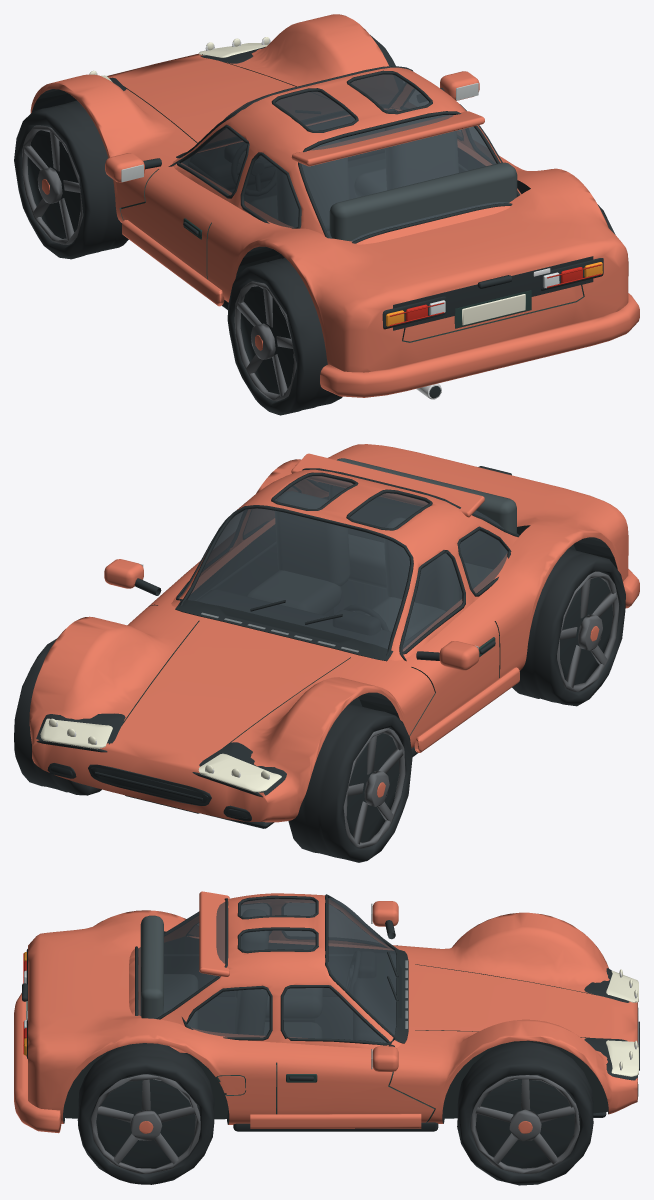
Rendered from arashi_lod2.fbx.
3 renders of one model, top to bottom at view 1: azimuth 30°, elevation 25°; view 2: azimuth 150°, elevation 25°; view 3: azimuth 270°, elevation 25°, orthographic. The views are drawn at different scales.
Parts seen in each view (by area): view 1: Body, Wheel_FL_Mesh, Wheel_RL_Mesh; view 2: Body, Wheel_FL_Mesh, Wheel_RL_Mesh, Wheel_FR_Mesh; view 3: Body, Wheel_FR_Mesh, Wheel_RR_Mesh.
Part boxes in pixels (<box>): Body: <box>30,14,639,399</box>; Wheel_FL_Mesh: <box>14,100,128,259</box>; Wheel_RL_Mesh: <box>227,258,342,415</box>; Body: <box>29,444,639,828</box>; Wheel_FL_Mesh: <box>288,704,412,862</box>; Wheel_RL_Mesh: <box>512,548,625,706</box>; Wheel_FR_Mesh: <box>14,638,101,795</box>; Body: <box>14,891,639,1133</box>; Wheel_FR_Mesh: <box>457,1041,593,1185</box>; Wheel_RR_Mesh: <box>77,1043,214,1184</box>.
Size of the model in its own units: 241 by 138 by 403.
